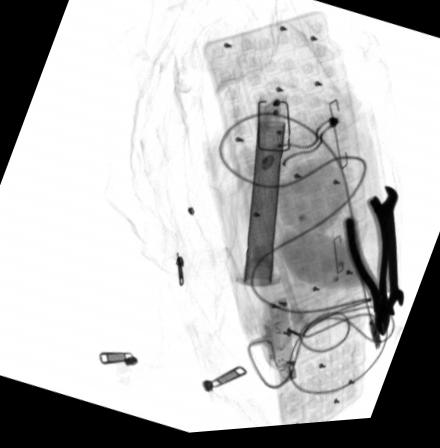Pliers: (342, 201, 392, 344)
Wrench: (371, 190, 405, 323)
